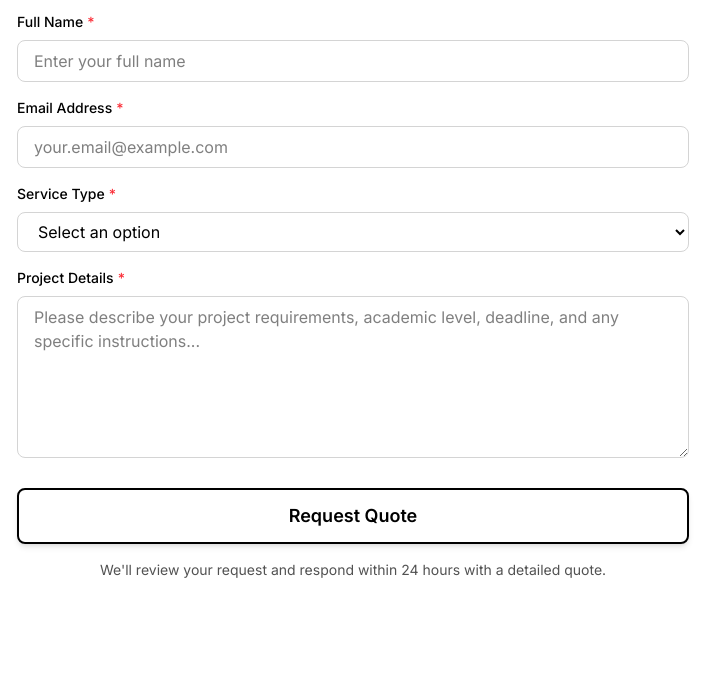
Test: QuoteForm Component › displays validation errors for empty required fields
Click the button "Request Quote" at (353, 516), box x1=17 y1=488 x2=689 y2=544
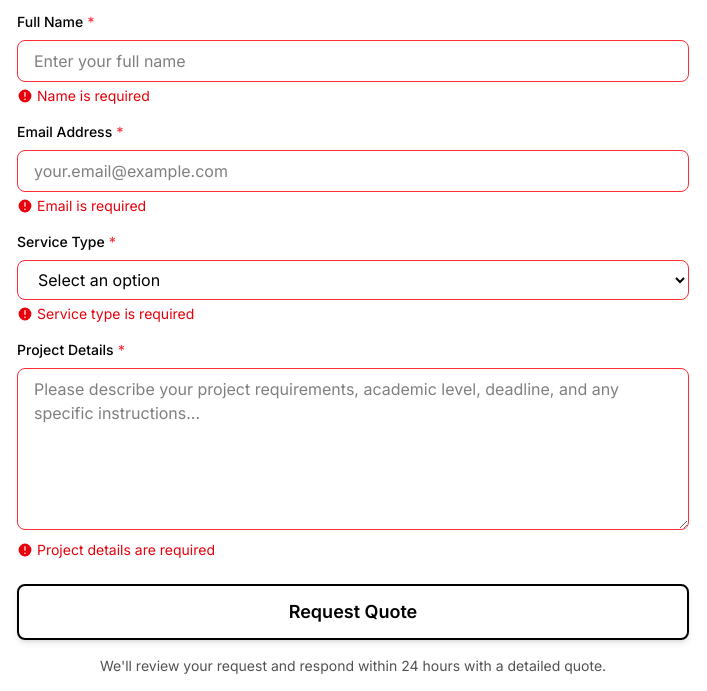
Now the text "Name is required" is shown, box x1=17 y1=87 x2=150 y2=104
